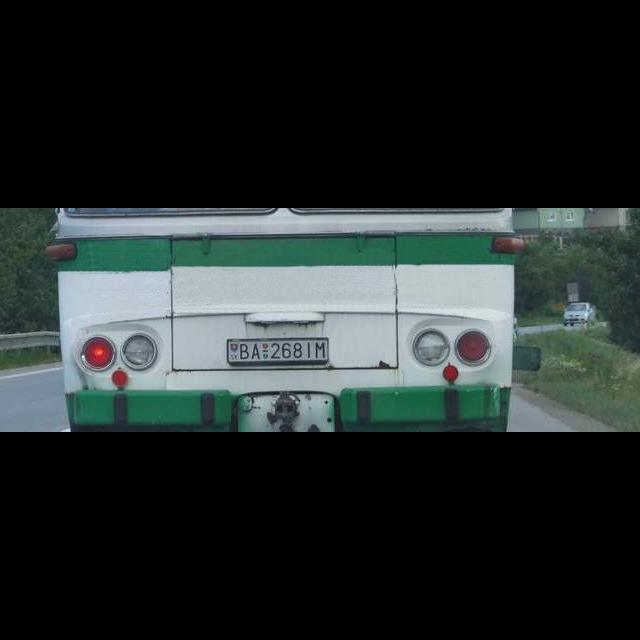Plate: (224, 335, 330, 364)
